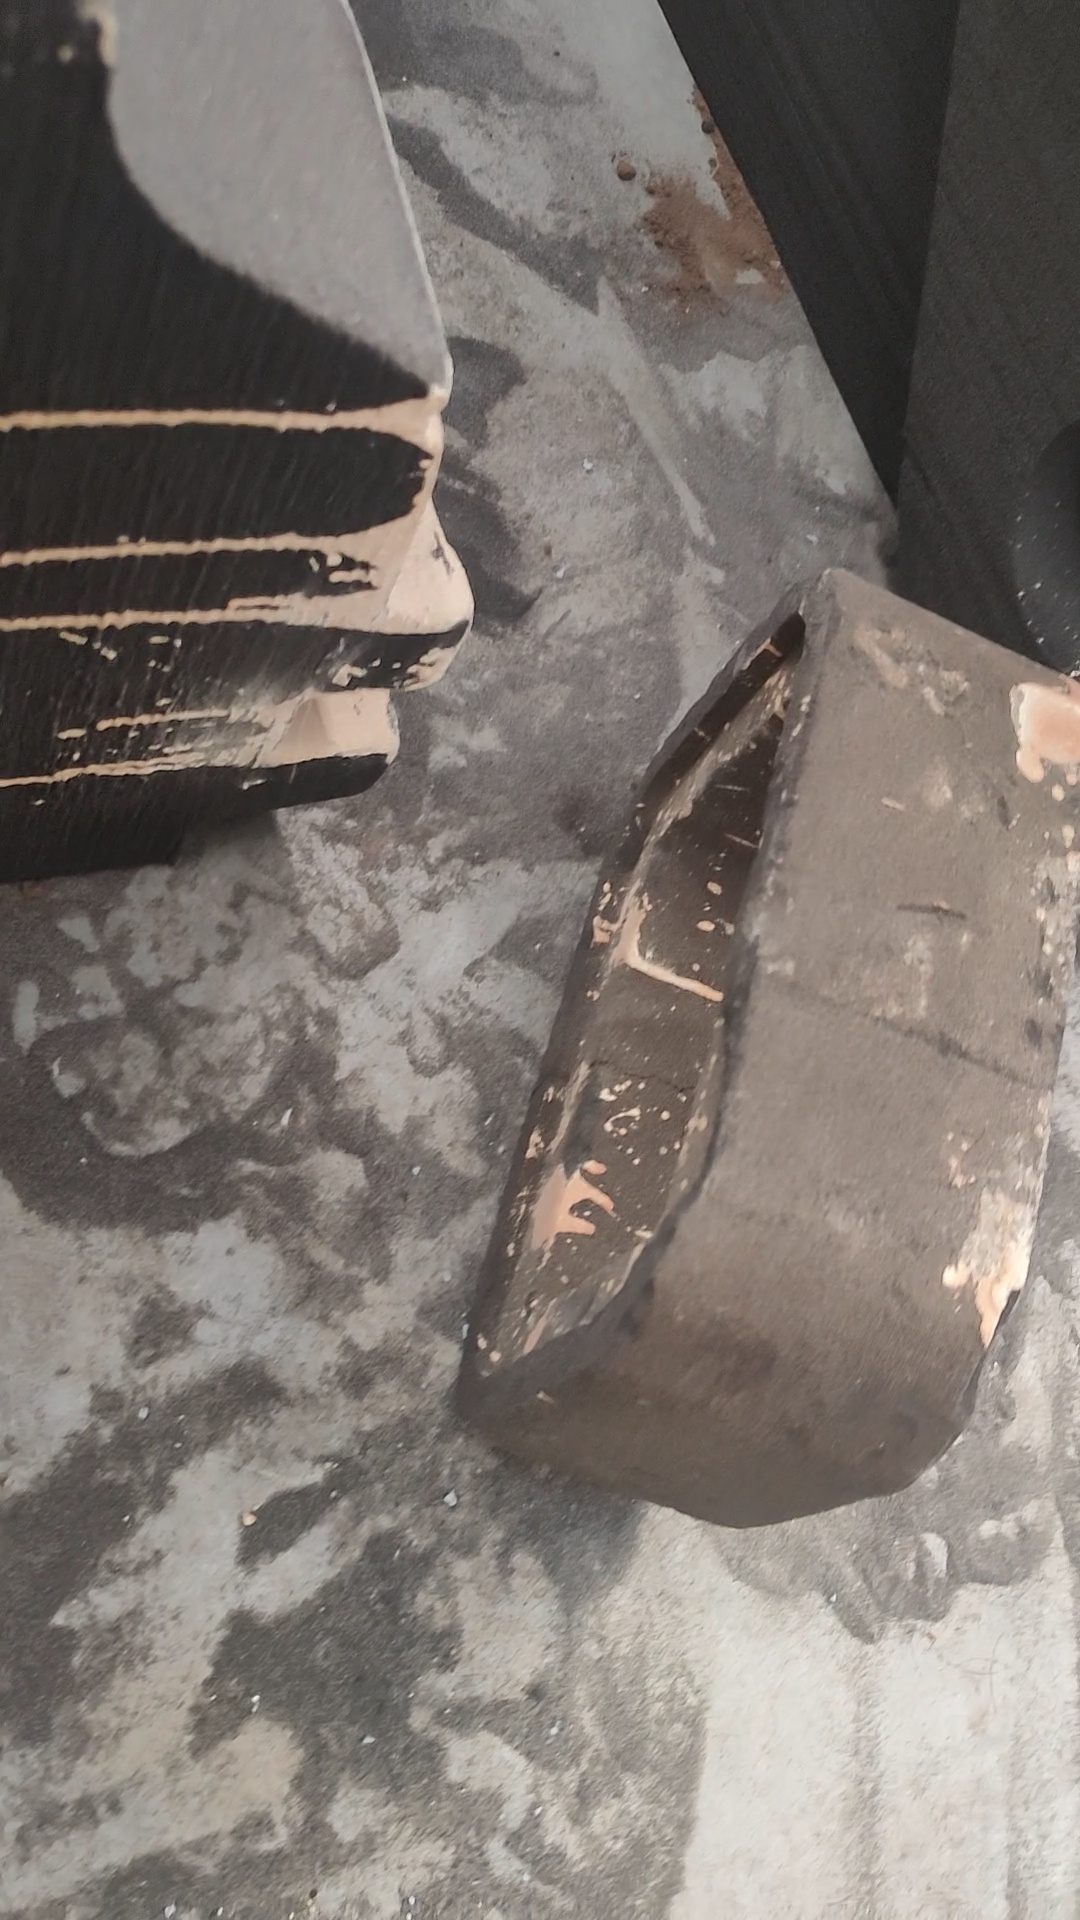pouring hole: (1011, 411, 1080, 680)
